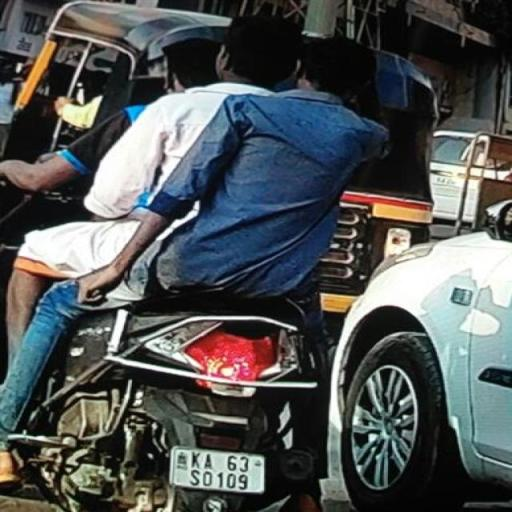tripple riding: (1, 10, 393, 288)
